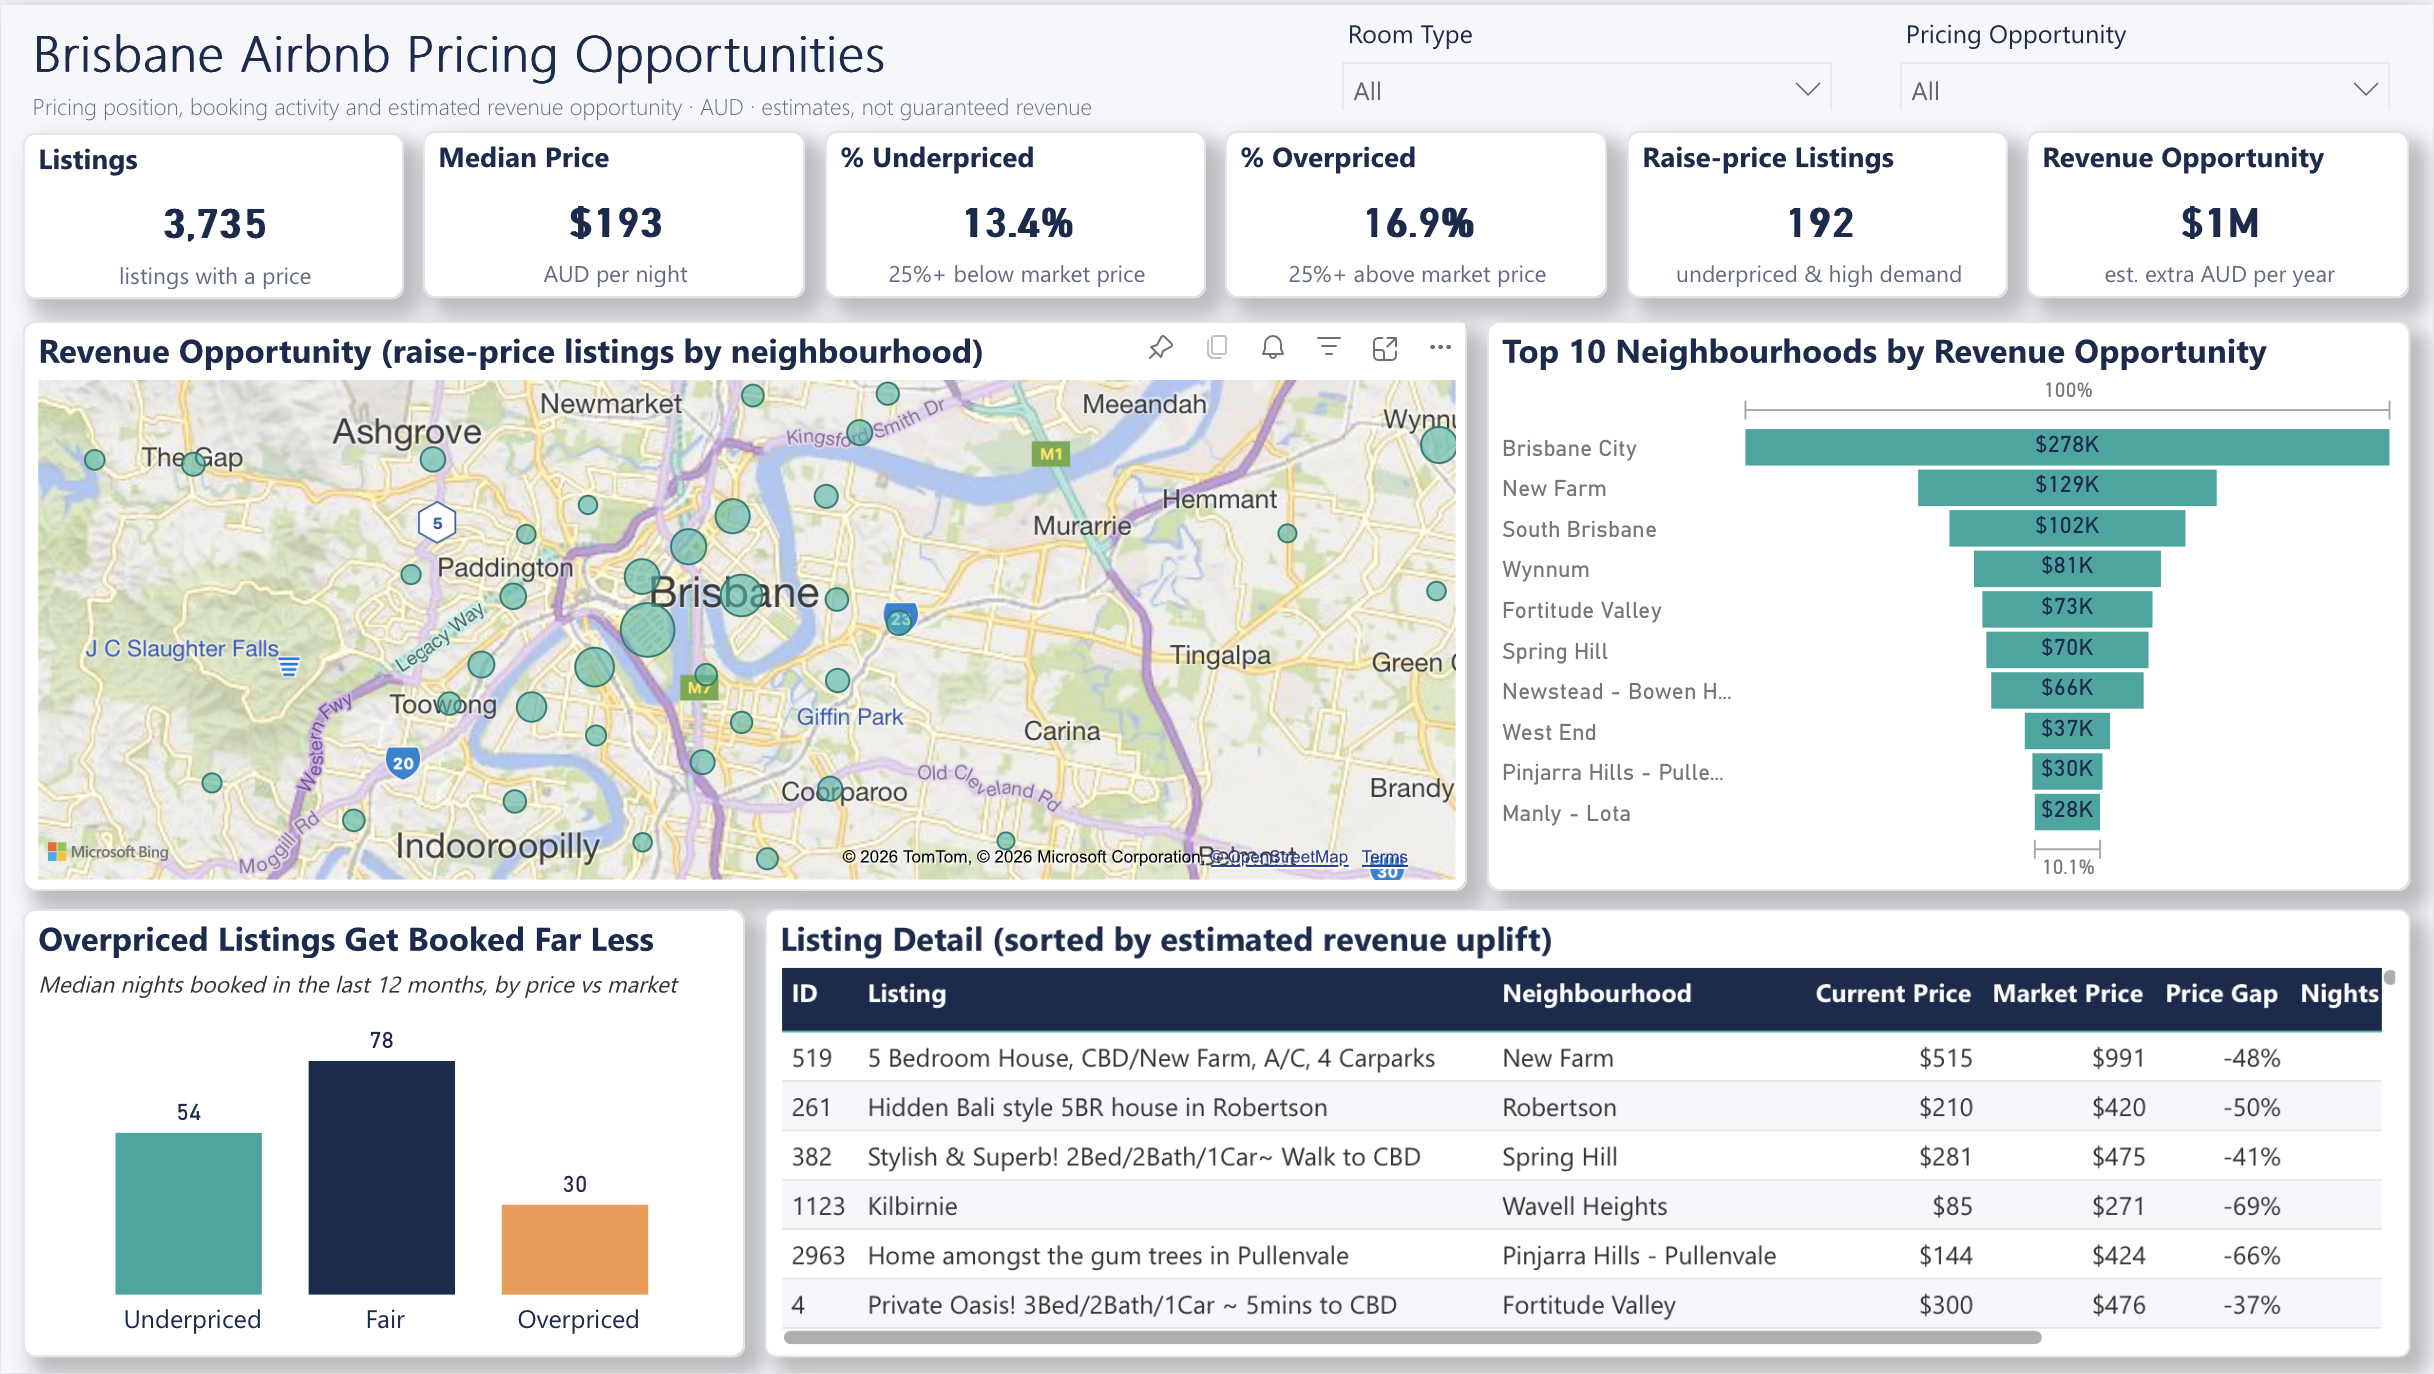

Layout of this report page (visuals, bound fields, positions):
{"tool":"powerbi","page":{"name":"Pricing opportunities","canvas":[1280,720],"ordinal":0},"visuals":[{"type":"textbox","box":[12,1.2,639.8,45.8],"z":0},{"type":"textbox","box":[12,38,660,34],"z":1000},{"type":"slicer","fields":{"Values":["listings_pricing.room_type"]},"box":[695.9,1.5,278,54],"z":2000},{"type":"slicer","fields":{"Values":["listings_pricing.opportunity"]},"box":[989.4,1.5,278,54],"z":3000},{"type":"card","title":"Listings","fields":{"Values":["listings_pricing.Listings"]},"box":[11.9,67.3,200.6,87.5],"z":4000},{"type":"card","title":"Median Price","fields":{"Values":["listings_pricing.Median Price"]},"box":[222.6,66.7,201.2,88.1],"z":5000},{"type":"card","title":"% Underpriced","fields":{"Values":["listings_pricing.% Underpriced"]},"box":[433.9,66.7,200.6,88.1],"z":6000},{"type":"card","title":"% Overpriced","fields":{"Values":["listings_pricing.% Overpriced"]},"box":[644.6,66.7,201.2,88.1],"z":7000},{"type":"card","title":"Raise-price Listings","fields":{"Values":["listings_pricing.Raise-price Listings"]},"box":[856,66.7,200.6,88.1],"z":8000},{"type":"card","title":"Revenue Opportunity","fields":{"Values":["listings_pricing.Revenue Opportunity"]},"box":[1066.7,66.7,201.2,88.1],"z":9000},{"type":"map","title":"Revenue Opportunity (raise-price listings by neighbourhood)","fields":{"Category":["listings_pricing.neighbourhood"],"Size":["listings_pricing.Revenue Opportunity"],"X":["listings_pricing.longitude"],"Y":["listings_pricing.latitude"]},"box":[12,166,760,300],"z":10000},{"type":"funnel","title":"Top 10 Neighbourhoods by Revenue Opportunity","fields":{"Category":["listings_pricing.neighbourhood"],"Y":["listings_pricing.Top 10 Revenue Opportunity"]},"box":[782,166,486,300],"z":11000},{"type":"clusteredColumnChart","title":"Overpriced Listings Get Booked Far Less","fields":{"Category":["listings_pricing.Price Position Label"],"Y":["listings_pricing.Median Nights Booked"]},"box":[12,476,380,236],"z":12000},{"type":"tableEx","title":"Listing Detail (sorted by estimated revenue uplift)","fields":{"Values":["listings_pricing.listing_id","listings_pricing.listing_name","listings_pricing.neighbourhood","listings_pricing.price","listings_pricing.market_price","listings_pricing.price_gap","listings_pricing.nights_booked_12m","listings_pricing.revenue_uplift"]},"box":[402,476,866,236],"z":13000}]}

Visuals, with their boxes in screenshot pixels (x1, y1, x2, y2), scaled from the page's 1280x720 canvas onto the 2434x1374 screenshot:
textbox: bbox=(23, 2, 1239, 90)
textbox: bbox=(23, 73, 1278, 137)
slicer - listings_pricing.room_type: bbox=(1323, 3, 1852, 106)
slicer - listings_pricing.opportunity: bbox=(1881, 3, 2410, 106)
"Listings" card: bbox=(23, 128, 404, 295)
"Median Price" card: bbox=(423, 127, 806, 295)
"% Underpriced" card: bbox=(825, 127, 1207, 295)
"% Overpriced" card: bbox=(1226, 127, 1608, 295)
"Raise-price Listings" card: bbox=(1628, 127, 2009, 295)
"Revenue Opportunity" card: bbox=(2028, 127, 2411, 295)
"Revenue Opportunity (raise-price listings by neighbourhood)" map: bbox=(23, 317, 1468, 889)
"Top 10 Neighbourhoods by Revenue Opportunity" funnel: bbox=(1487, 317, 2411, 889)
"Overpriced Listings Get Booked Far Less" clusteredColumnChart: bbox=(23, 908, 745, 1359)
"Listing Detail (sorted by estimated revenue uplift)" tableEx: bbox=(764, 908, 2411, 1359)
